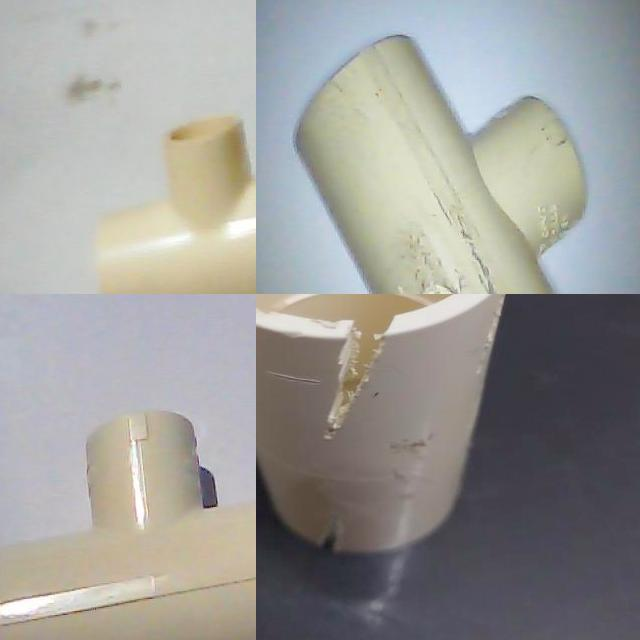Defective: (308, 298, 428, 436), (318, 516, 346, 549)
T Joint: (293, 35, 588, 294), (0, 410, 256, 640), (95, 118, 256, 294)
